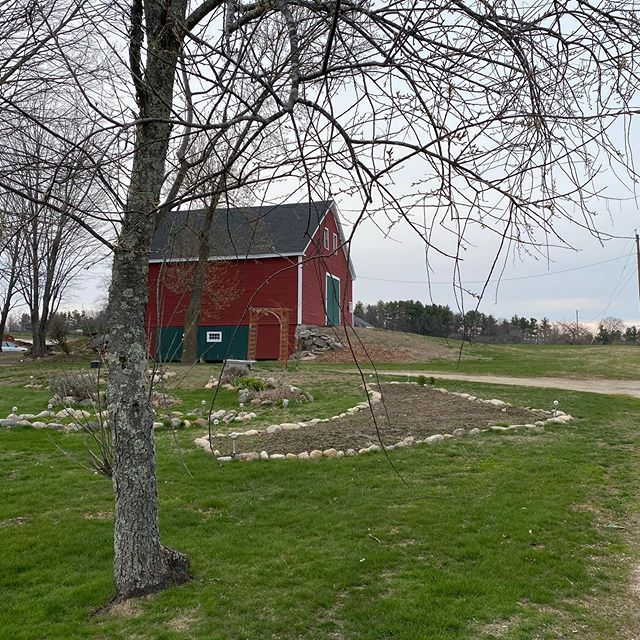building: (125, 195, 358, 368)
tree: (14, 1, 640, 577)
